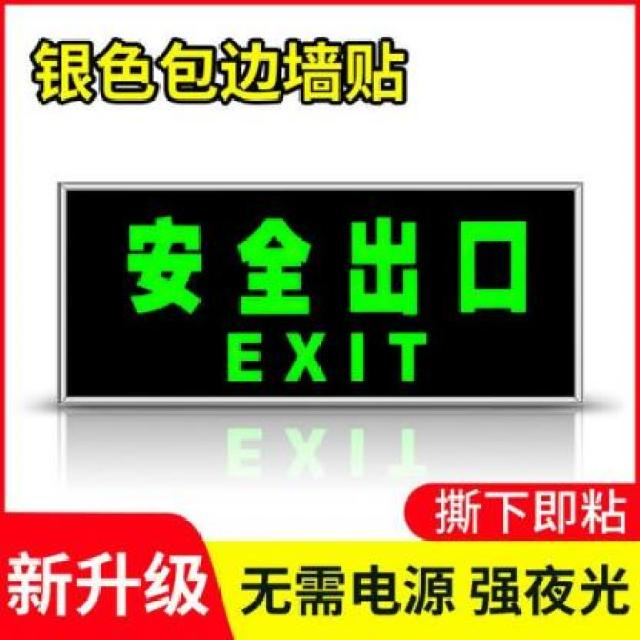exit_sign: (51, 172, 590, 413)
